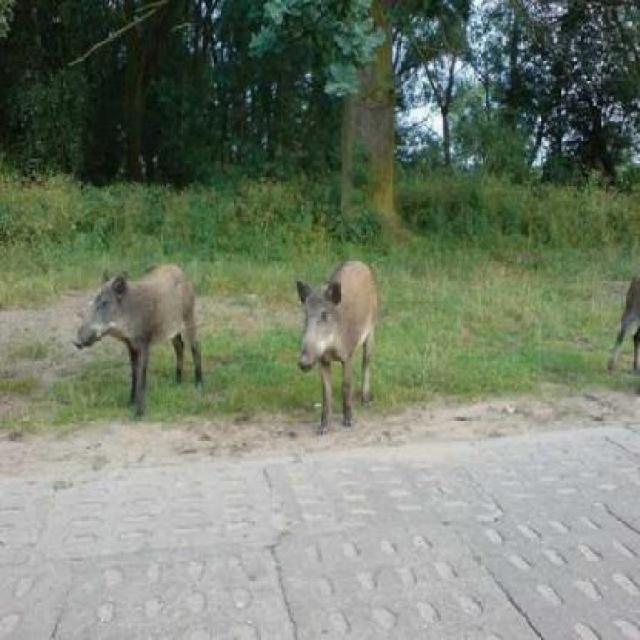pig: (62, 244, 216, 438), (278, 225, 398, 442)
